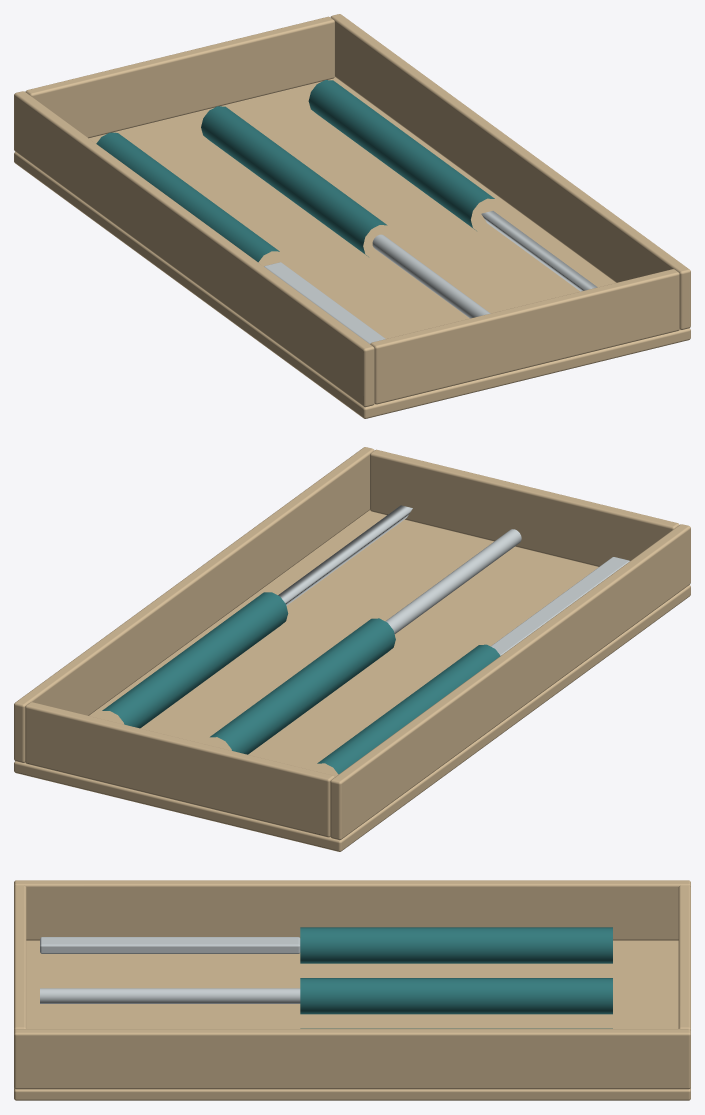
The model's file is tabletop-hobby-store-and-club-needle-file-set-2ce22489__31581.glb.
3 views of the same model, one above another, from view 1: azimuth 30°, elevation 25°; view 2: azimuth 150°, elevation 25°; view 3: azimuth 270°, elevation 25° (orthographic). The views are drawn at different scales.
Visible parts, largest first — view 1: needle-file-set; view 2: needle-file-set; view 3: needle-file-set.
Boxes of the visible parts, x1,y1,x2,y2 form: needle-file-set: [14, 14, 690, 418]; needle-file-set: [14, 447, 690, 851]; needle-file-set: [14, 880, 690, 1100].
Size of the model in its own units: 0.07 by 0.0144 by 0.13.
